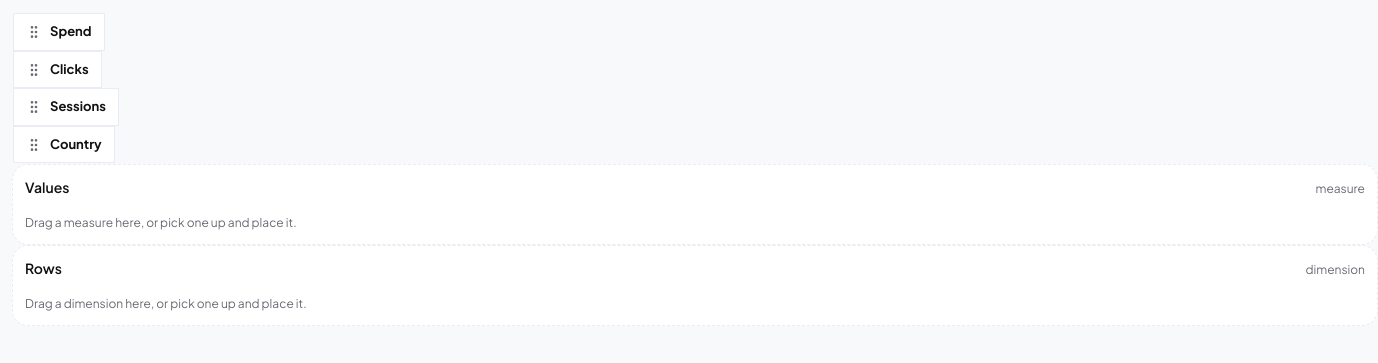
Test: Escape puts the carried field down, and the wells stop offering a place
Click the button with test id "field-m1": (59, 32) top-left (13, 13), bottom-right (105, 50)
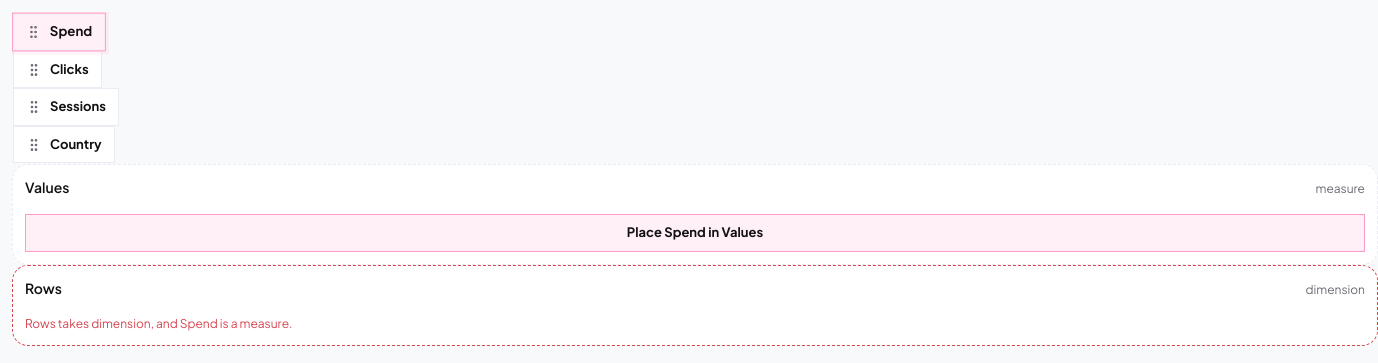
Expected: the button with test id "well-values-place" is shown, top-left (25, 214), bottom-right (1365, 252)
Press Escape in the button with test id "field-m1", box top-left (12, 13), bottom-right (106, 51)
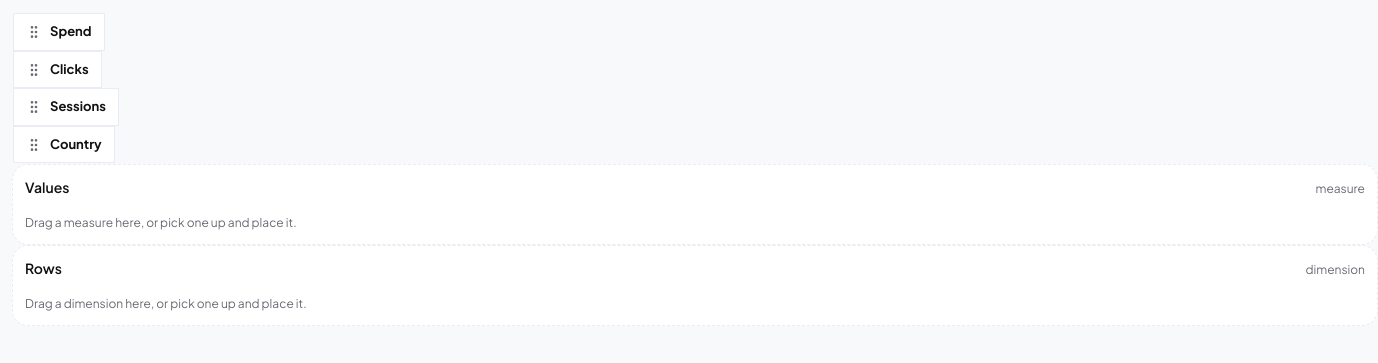
Expected: the button with test id "well-values-place" is gone
